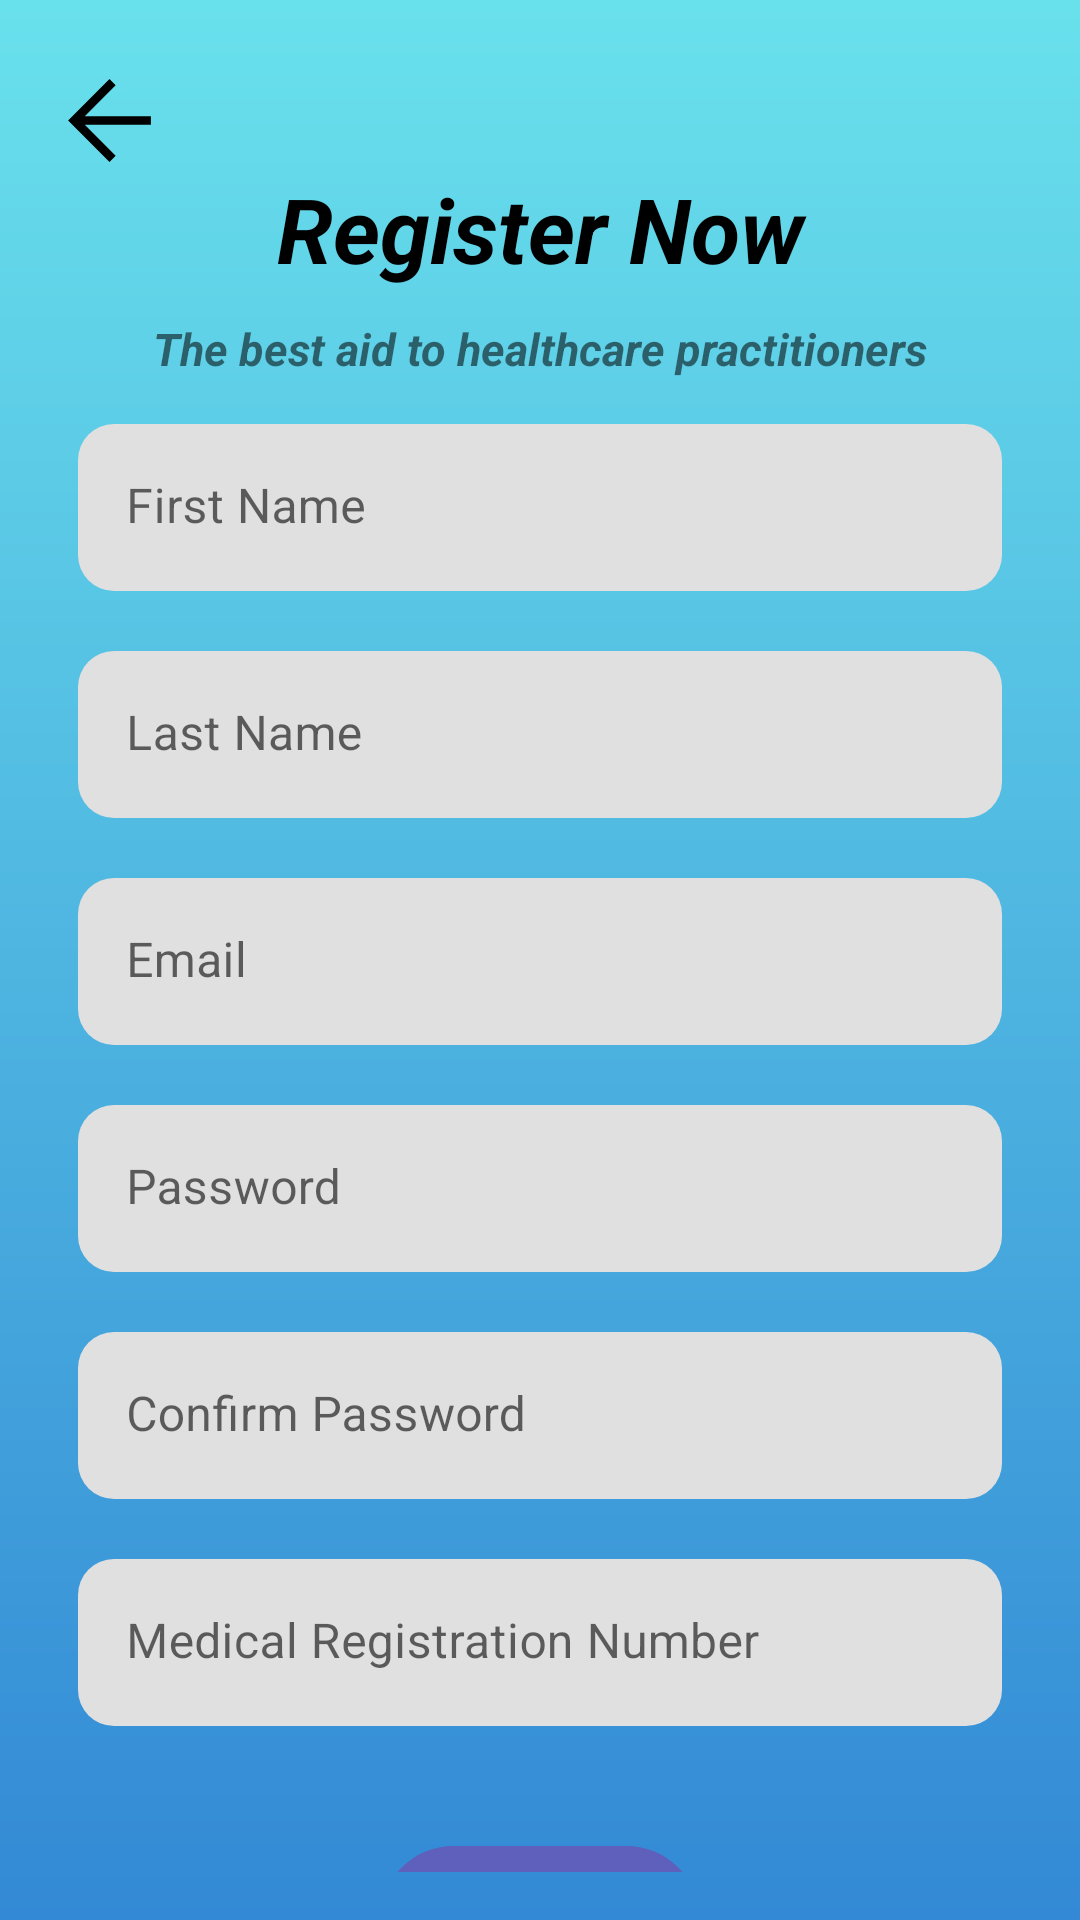

Screen size 1080 x 1920. Icon name, then its center in pixels as (x,y):
backarrow: (109,120)
